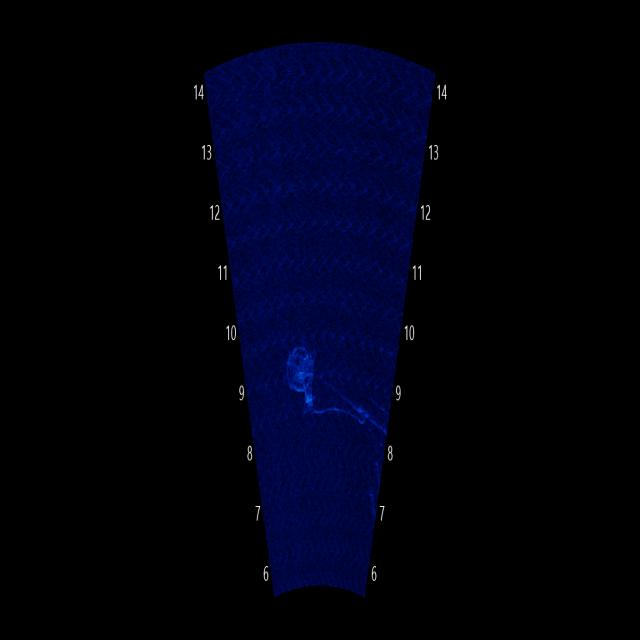circle: (282, 322, 326, 420)
